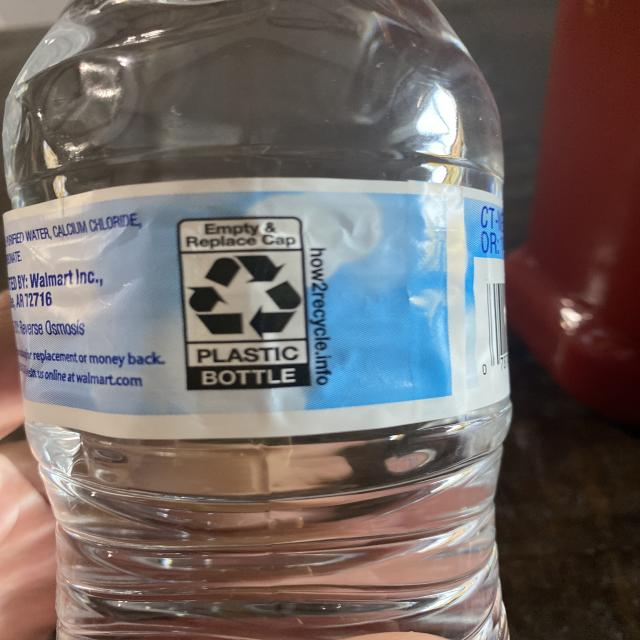plastic_bottle: (1, 1, 514, 638)
